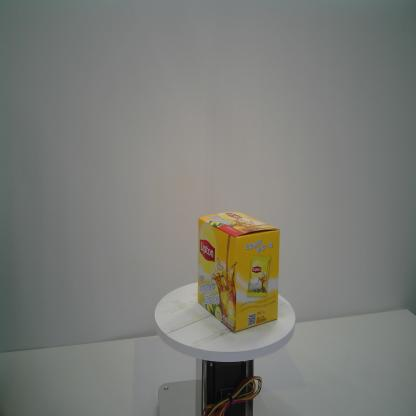Instant Drink: (198, 211, 280, 333)
